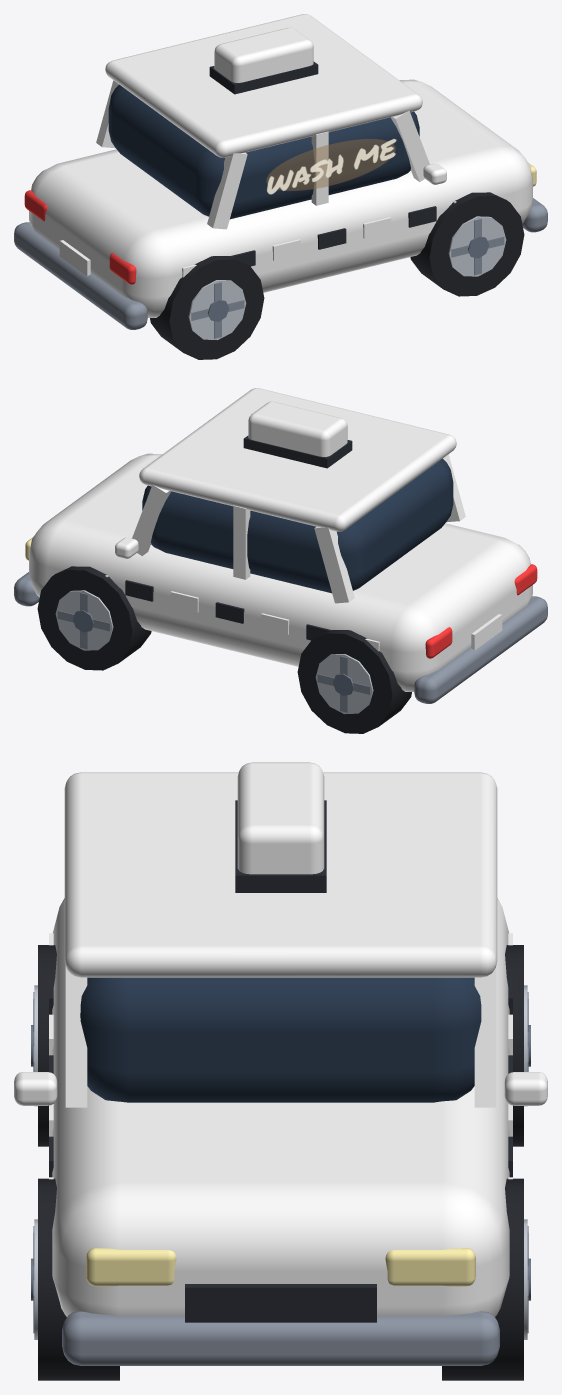
Rendered from car_taxi.glb.
3 renders of one model, top to bottom at view 1: azimuth 30°, elevation 25°; view 2: azimuth 150°, elevation 25°; view 3: azimuth 270°, elevation 25°, orthographic. The views are drawn at different scales.
Parts seen in each view (by area): view 1: Paint, Trim, Wheel0, Wheel1, WashMe; view 2: Paint, Trim, Wheel2, Wheel3; view 3: Paint, Trim, Wheel0, Wheel2, Wheel1, Wheel3.
Boxes of the visible parts, x1,y1,x2,y2 form: Paint: (29,14,532,317); Trim: (14,27,547,329); Wheel0: (410,192,524,296); Wheel1: (150,256,264,359); WashMe: (266,138,396,194); Paint: (29,388,532,691); Trim: (14,401,547,703); Wheel2: (37,566,151,670); Wheel3: (297,630,411,733); Paint: (14,772,547,1316); Trim: (49,762,512,1365); Wheel0: (31,1178,119,1380); Wheel2: (442,1178,530,1380); Wheel1: (31,945,56,1146); Wheel3: (505,945,530,1146).
Size of the model in its own units: 3.74 by 2.04 by 2.22.
7 materials, 1 textured.
